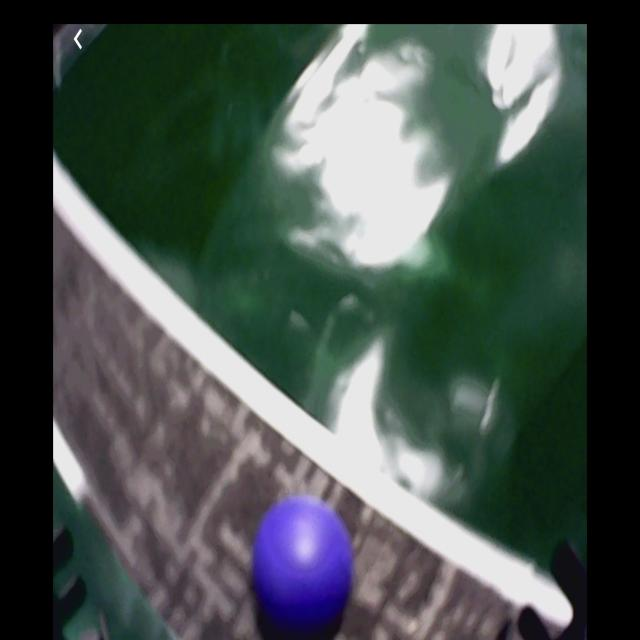ball: (254, 499, 354, 633)
